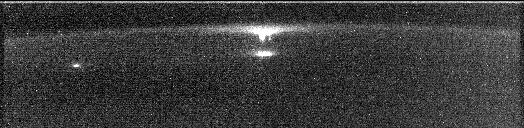positive: (256, 32, 272, 46)
